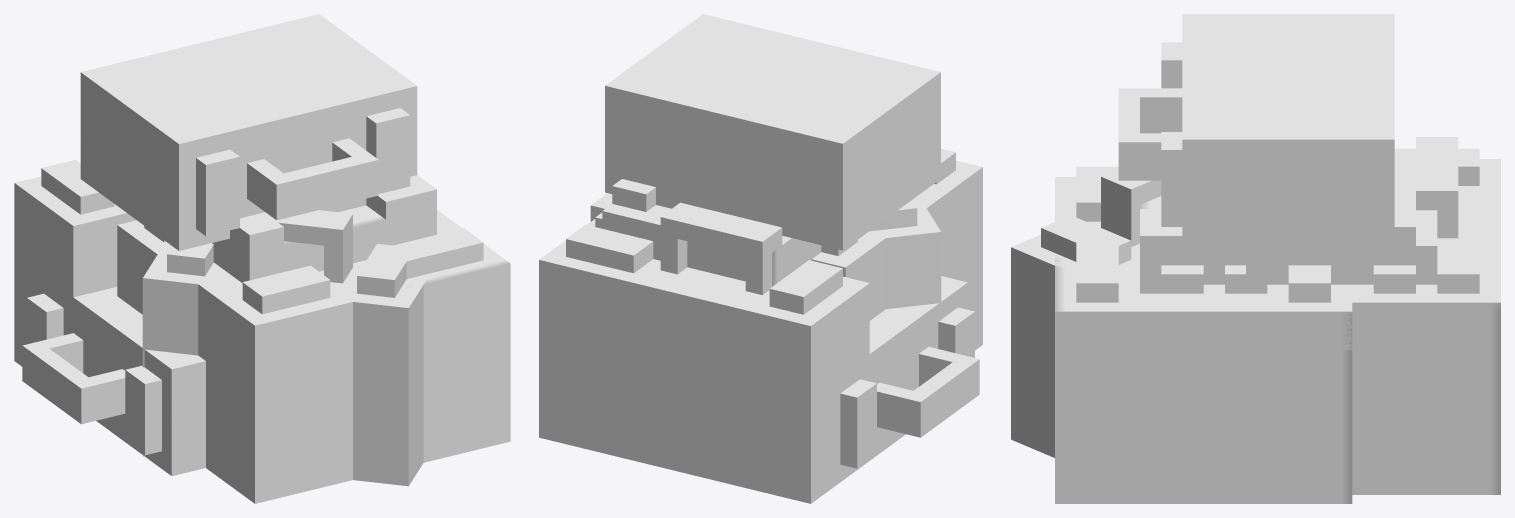
Rendered from Briefcase_Set.fbx.
3 renders of one model, left to right at view 1: azimuth 30°, elevation 25°; view 2: azimuth 150°, elevation 25°; view 3: azimuth 270°, elevation 25°, orthographic. The views are drawn at different scales.
Visible parts, largest first — view 1: briefcase_Group_3, briefcase_Group_2, briefcase_Group_1, briefcase_Group_4; view 2: briefcase_Group_2, briefcase_Group_3, briefcase_Group_4, briefcase_Group_1; view 3: briefcase_Group_3, briefcase_Group_1, briefcase_Group_4, briefcase_Group_2.
Boxes of the visible parts, x1,y1,x2,y2 form: briefcase_Group_3: (80, 14, 419, 456); briefcase_Group_2: (14, 160, 493, 503); briefcase_Group_1: (22, 175, 510, 475); briefcase_Group_4: (142, 210, 430, 486); briefcase_Group_2: (573, 148, 982, 503); briefcase_Group_3: (590, 14, 940, 390); briefcase_Group_4: (539, 179, 941, 462); briefcase_Group_1: (590, 193, 979, 485); briefcase_Group_3: (1118, 14, 1437, 349); briefcase_Group_1: (1055, 218, 1352, 503); briefcase_Group_4: (1011, 169, 1500, 494); briefcase_Group_2: (1055, 137, 1500, 302).
Size of the model in its own units: 20 by 18 by 23.07.
Materials: 1 (1 with a texture image).
